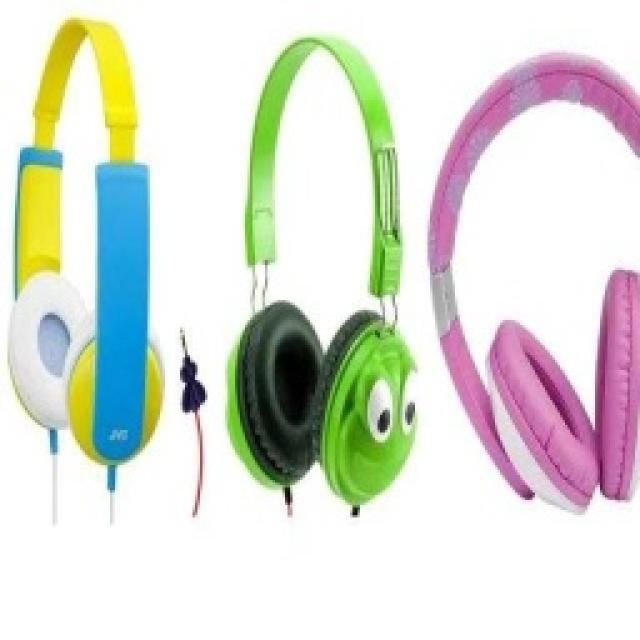headphones: (425, 48, 637, 512), (225, 33, 417, 515)
